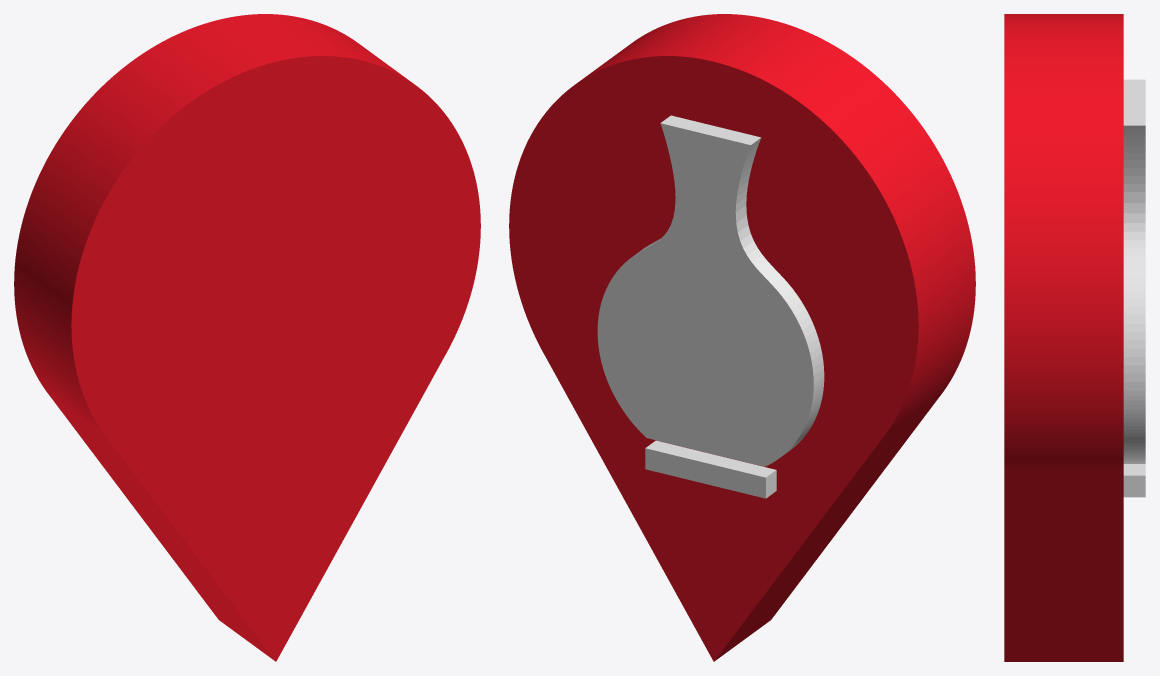
File: pin-barro.glb
3 renders of one model, left to right at view 1: azimuth 30°, elevation 25°; view 2: azimuth 150°, elevation 25°; view 3: azimuth 270°, elevation 25°, orthographic. The views are drawn at different scales.
Parts seen in each view (by area): view 1: Curve.006; view 2: Curve.006; view 3: Curve.006.
Boxes of the visible parts, box(x1,y1,x2,y2) form: Curve.006: box(14, 14, 480, 661); Curve.006: box(509, 14, 975, 661); Curve.006: box(1004, 14, 1145, 661).
Bounding box in the file's own units: 2 × 2.8 × 0.5747.
